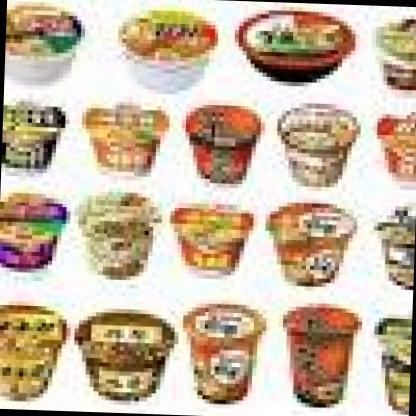Ramen: (72, 305, 179, 396), (233, 10, 362, 84), (180, 300, 269, 404), (73, 190, 170, 284), (277, 302, 360, 404), (265, 200, 361, 288), (118, 10, 223, 88), (4, 0, 88, 86), (168, 200, 257, 280), (278, 103, 361, 188), (184, 103, 263, 187), (0, 302, 68, 398), (84, 100, 164, 176), (0, 197, 73, 275), (2, 97, 67, 171), (371, 314, 412, 415), (372, 206, 416, 295), (370, 16, 416, 95), (371, 110, 416, 182)
